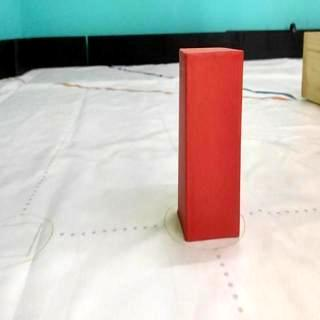redbox: (178, 47, 244, 242)
